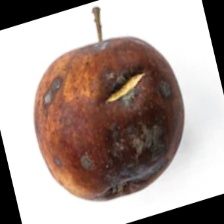apple: (21, 29, 193, 204)
